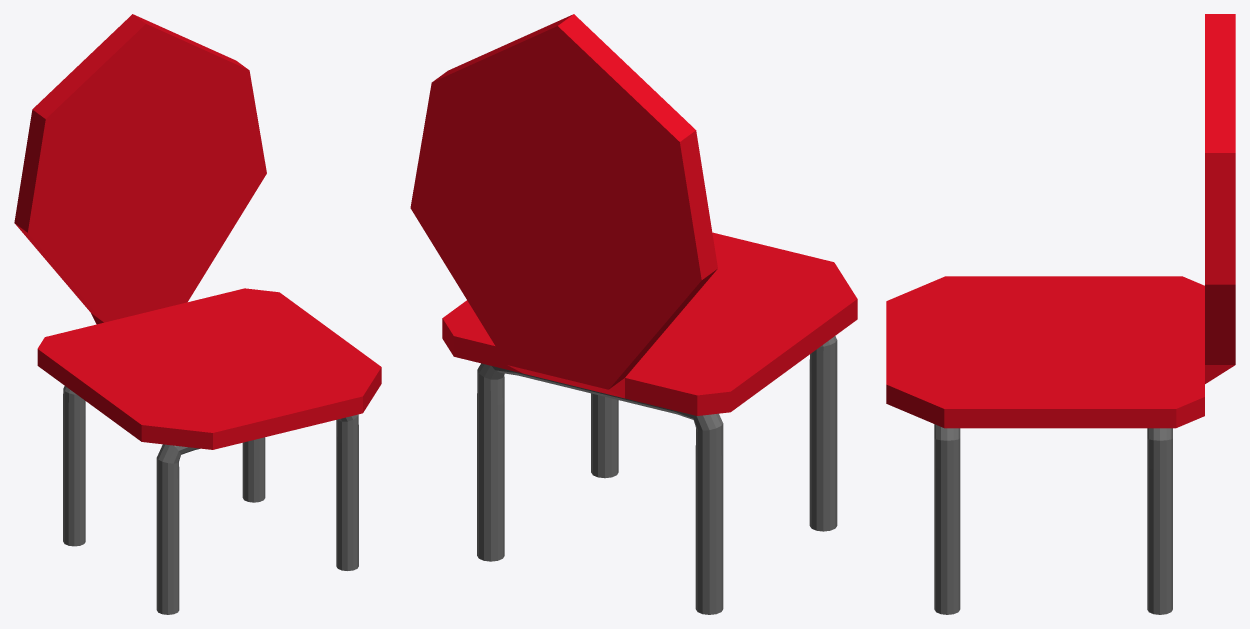
The model's file is Silla.fbx.
The picture shows the model from 3 angles, left to right: view 1: azimuth 30°, elevation 25°; view 2: azimuth 150°, elevation 25°; view 3: azimuth 270°, elevation 25°; orthographic projection. The views are drawn at different scales.
Visible parts, largest first — view 1: Silla_1, Patas_Silla; view 2: Silla_1, Patas_Silla; view 3: Silla_1, Patas_Silla.
Boxes of the visible parts, x1,y1,x2,y2 form: Silla_1: (14,14,381,449); Patas_Silla: (63,386,358,614); Silla_1: (410,14,857,415); Patas_Silla: (477,336,837,614); Silla_1: (886,14,1235,428); Patas_Silla: (934,424,1172,614).
Size of the model in its own units: 64.52 by 124 by 71.68.
